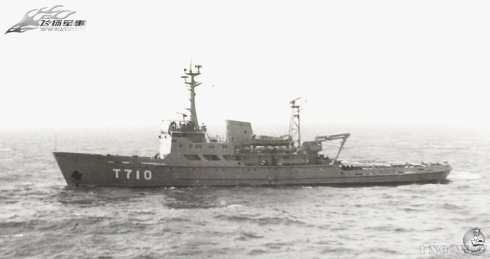warship: (53, 63, 455, 193)
